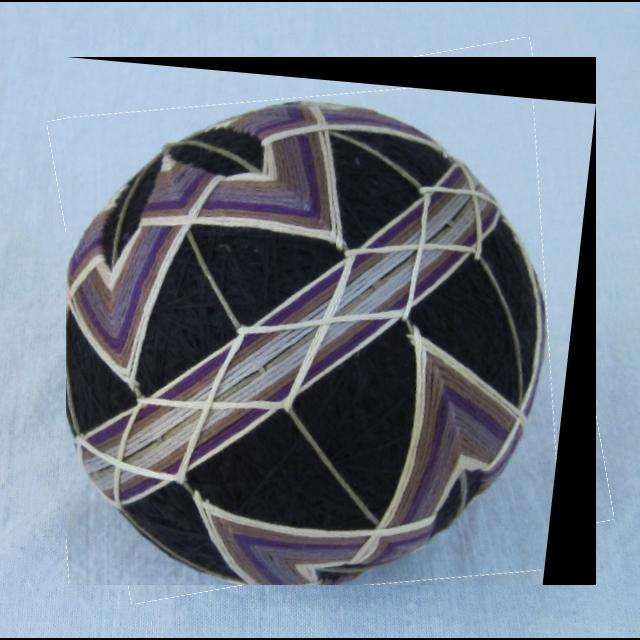Football: (66, 57, 596, 585)
